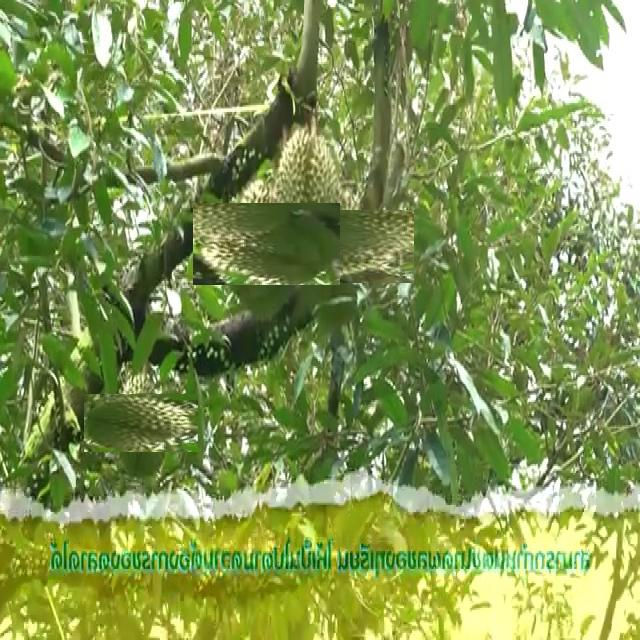durian: (209, 186, 324, 302), (280, 189, 394, 303), (270, 124, 348, 262), (97, 380, 184, 466)
